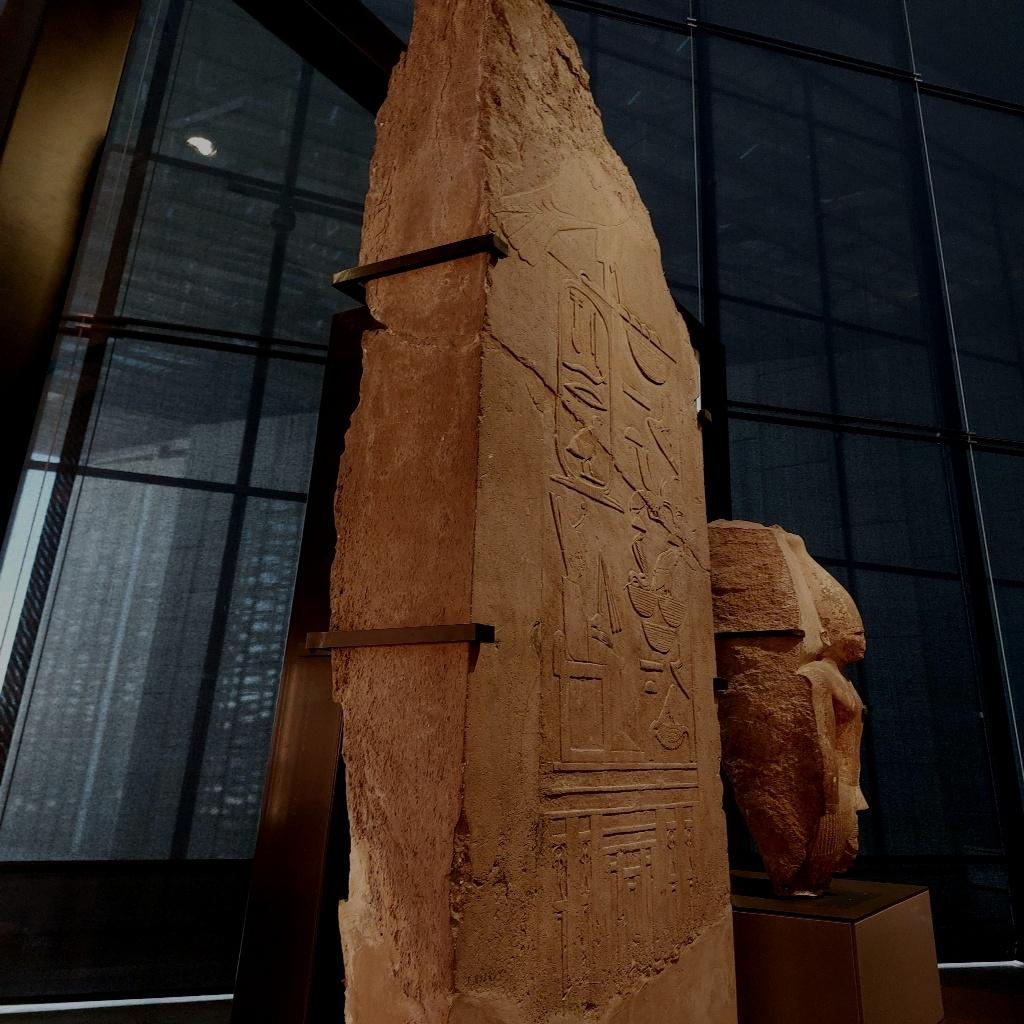Stela of king Snefero: (440, 66, 716, 908)
